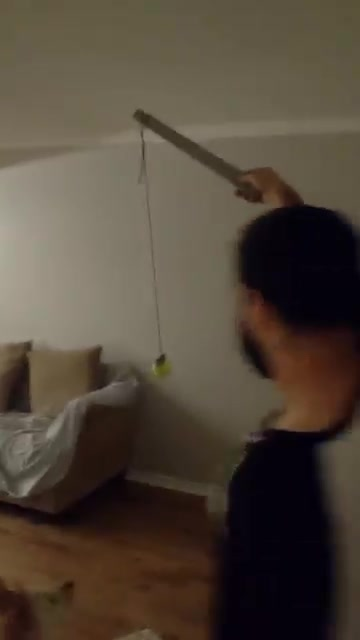tennis_ball: (150, 357, 174, 380)
